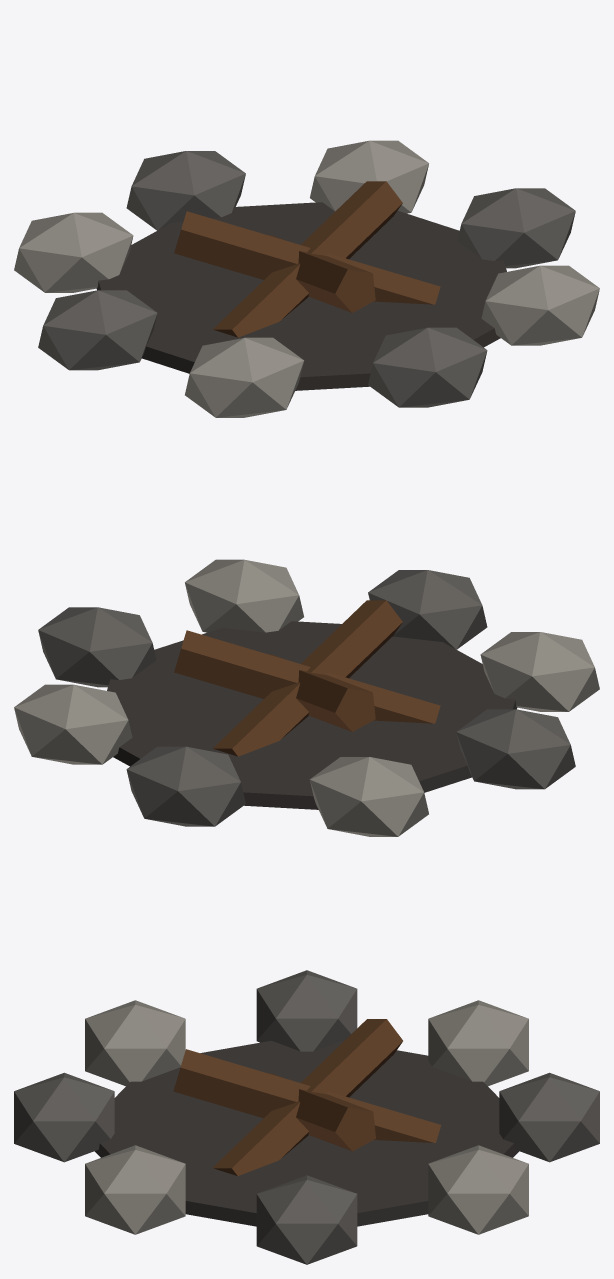
File: PR_FirePit.fbx
3 renders of one model, top to bottom at view 1: azimuth 30°, elevation 25°; view 2: azimuth 150°, elevation 25°; view 3: azimuth 270°, elevation 25°, orthographic.
Visible parts, largest first — view 1: PR_FirePit; view 2: PR_FirePit; view 3: PR_FirePit.
Boxes of the visible parts, x1=… form: PR_FirePit: x1=14, y1=140, x2=599, y2=417; PR_FirePit: x1=14, y1=559, x2=599, y2=836; PR_FirePit: x1=14, y1=970, x2=599, y2=1264.
Size of the model in its own units: 2.07 by 1.98 by 1.12.
